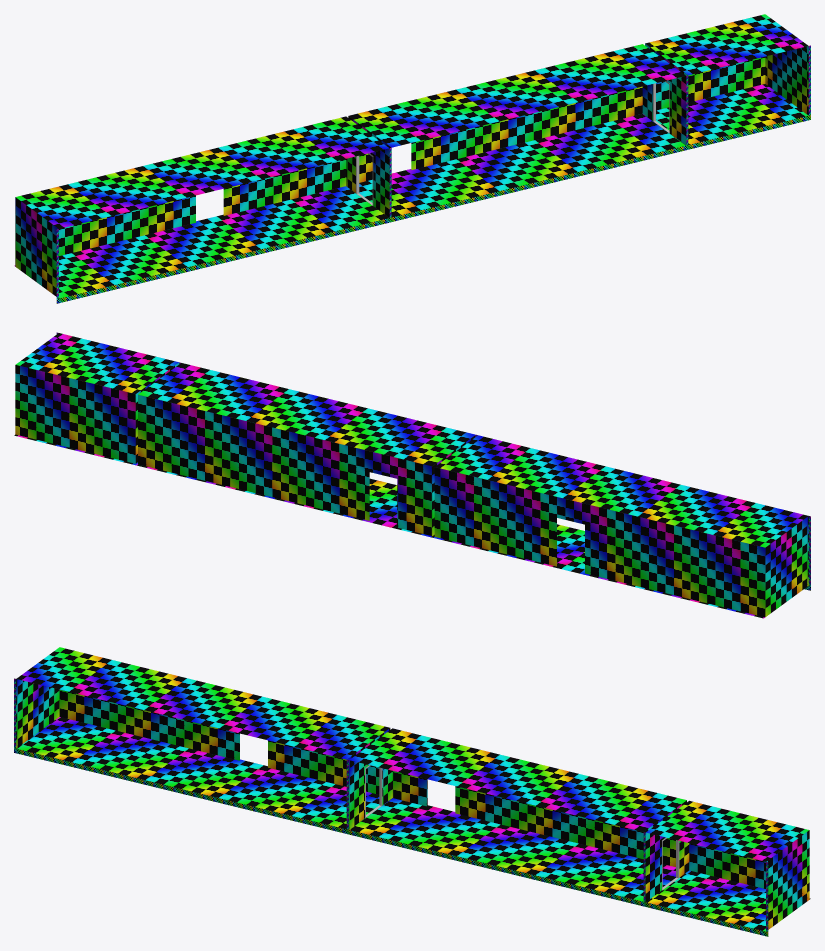
Rendered from FrontLower.FBX.
The picture shows the model from 3 angles, top to bottom: view 1: azimuth 30°, elevation 25°; view 2: azimuth 150°, elevation 25°; view 3: azimuth 330°, elevation 25°; orthographic projection.
Visible parts, largest first — view 1: FrontLowerDiningCeiling, FrontLowerDiningFloor, FrontLowerKitchenCeiling, FrontLowerKitchenFloor, FrontLowerDiningWall, FrontLowerKitchenWall, FrontLowerStoreCeiling, FrontLowerBeams, FrontLowerStoreWall, FrontLowerStoreFloor; view 2: FrontLowerDiningWall, FrontLowerKitchenWall, FrontLowerDiningCeiling, FrontLowerKitchenCeiling, FrontLowerStoreWall, FrontLowerStoreCeiling, FrontLowerDiningFloor, FrontLowerKitchenFloor; view 3: FrontLowerDiningCeiling, FrontLowerDiningFloor, FrontLowerKitchenCeiling, FrontLowerKitchenFloor, FrontLowerDiningWall, FrontLowerKitchenWall, FrontLowerStoreWall, FrontLowerStoreCeiling, FrontLowerBeams, FrontLowerStoreFloor.
Part boxes in pixels (x1=…): FrontLowerDiningCeiling: x1=16, y1=116, x2=388, y2=228; FrontLowerDiningFloor: x1=14, y1=186, x2=388, y2=298; FrontLowerKitchenCeiling: x1=349, y1=44, x2=685, y2=147; FrontLowerKitchenFloor: x1=359, y1=114, x2=685, y2=217; FrontLowerDiningWall: x1=15, y1=148, x2=389, y2=296; FrontLowerKitchenWall: x1=348, y1=76, x2=686, y2=182; FrontLowerStoreCeiling: x1=645, y1=14, x2=808, y2=75; FrontLowerBeams: x1=56, y1=45, x2=810, y2=303; FrontLowerStoreWall: x1=645, y1=44, x2=808, y2=115; FrontLowerStoreFloor: x1=656, y1=84, x2=808, y2=144; FrontLowerDiningWall: x1=434, y1=467, x2=808, y2=617; FrontLowerKitchenWall: x1=138, y1=394, x2=475, y2=536; FrontLowerDiningCeiling: x1=435, y1=435, x2=808, y2=547; FrontLowerKitchenCeiling: x1=138, y1=363, x2=475, y2=466; FrontLowerStoreWall: x1=15, y1=362, x2=179, y2=463; FrontLowerStoreCeiling: x1=16, y1=333, x2=178, y2=393; FrontLowerDiningFloor: x1=432, y1=524, x2=764, y2=618; FrontLowerKitchenFloor: x1=136, y1=463, x2=434, y2=537; FrontLowerDiningCeiling: x1=16, y1=647, x2=389, y2=759; FrontLowerDiningFloor: x1=16, y1=717, x2=379, y2=829; FrontLowerKitchenCeiling: x1=349, y1=728, x2=686, y2=831; FrontLowerKitchenFloor: x1=349, y1=798, x2=675, y2=901; FrontLowerDiningWall: x1=16, y1=679, x2=390, y2=794; FrontLowerKitchenWall: x1=349, y1=760, x2=686, y2=866; FrontLowerStoreWall: x1=645, y1=830, x2=809, y2=929; FrontLowerStoreCeiling: x1=646, y1=800, x2=808, y2=861; FrontLowerBeams: x1=14, y1=678, x2=768, y2=936; FrontLowerStoreFloor: x1=646, y1=870, x2=810, y2=931.
Size of the model in its own units: 1336 by 126 by 138.
